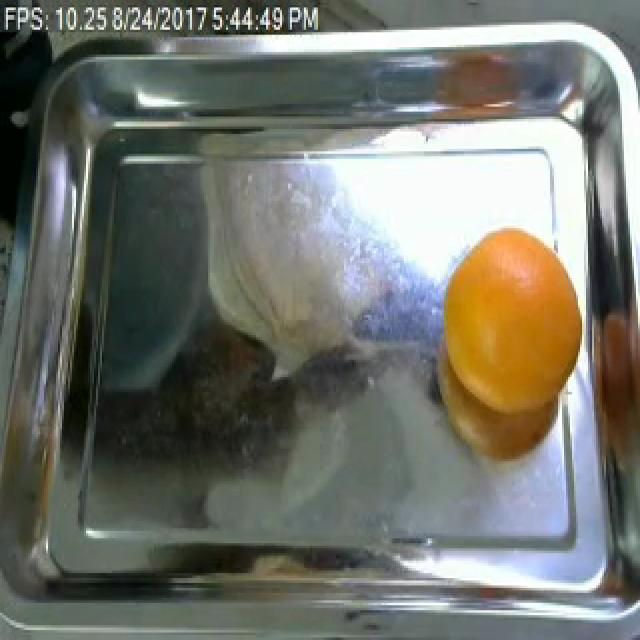Fruit: (436, 218, 590, 469)
